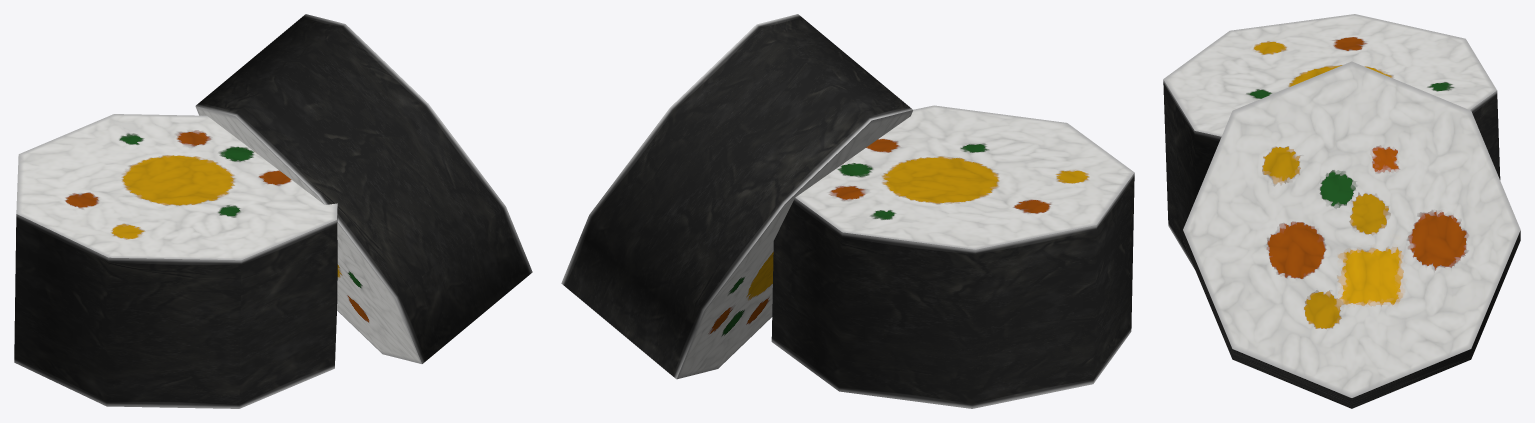
The model's file is gimbob3.fbx.
3 renders of one model, left to right at view 1: azimuth 30°, elevation 25°; view 2: azimuth 150°, elevation 25°; view 3: azimuth 270°, elevation 25°, orthographic. The views are drawn at different scales.
Visible parts, largest first — view 1: Cylinder.006; view 2: Cylinder.006; view 3: Cylinder.006.
Part boxes in pixels (left/top/right/bottom): Cylinder.006: left=14, top=14, right=532, bottom=408; Cylinder.006: left=561, top=14, right=1134, bottom=408; Cylinder.006: left=1163, top=14, right=1520, bottom=408.
Size of the model in its own units: 7.19 by 4.91 by 4.82.
